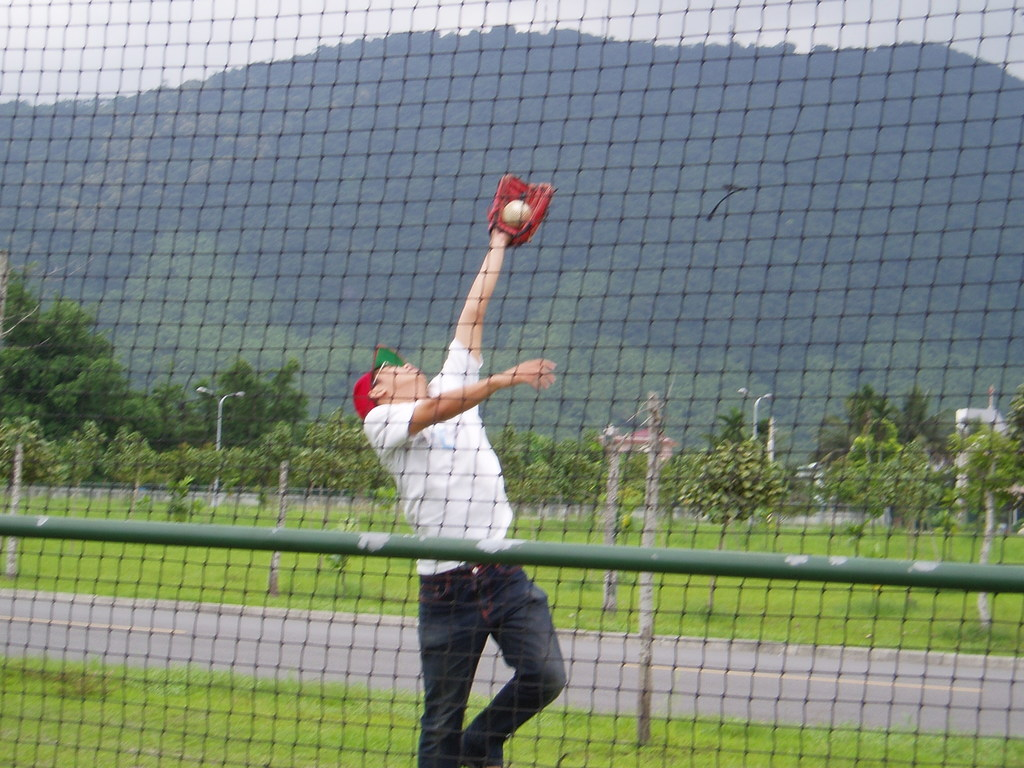Person: (351, 171, 568, 767)
